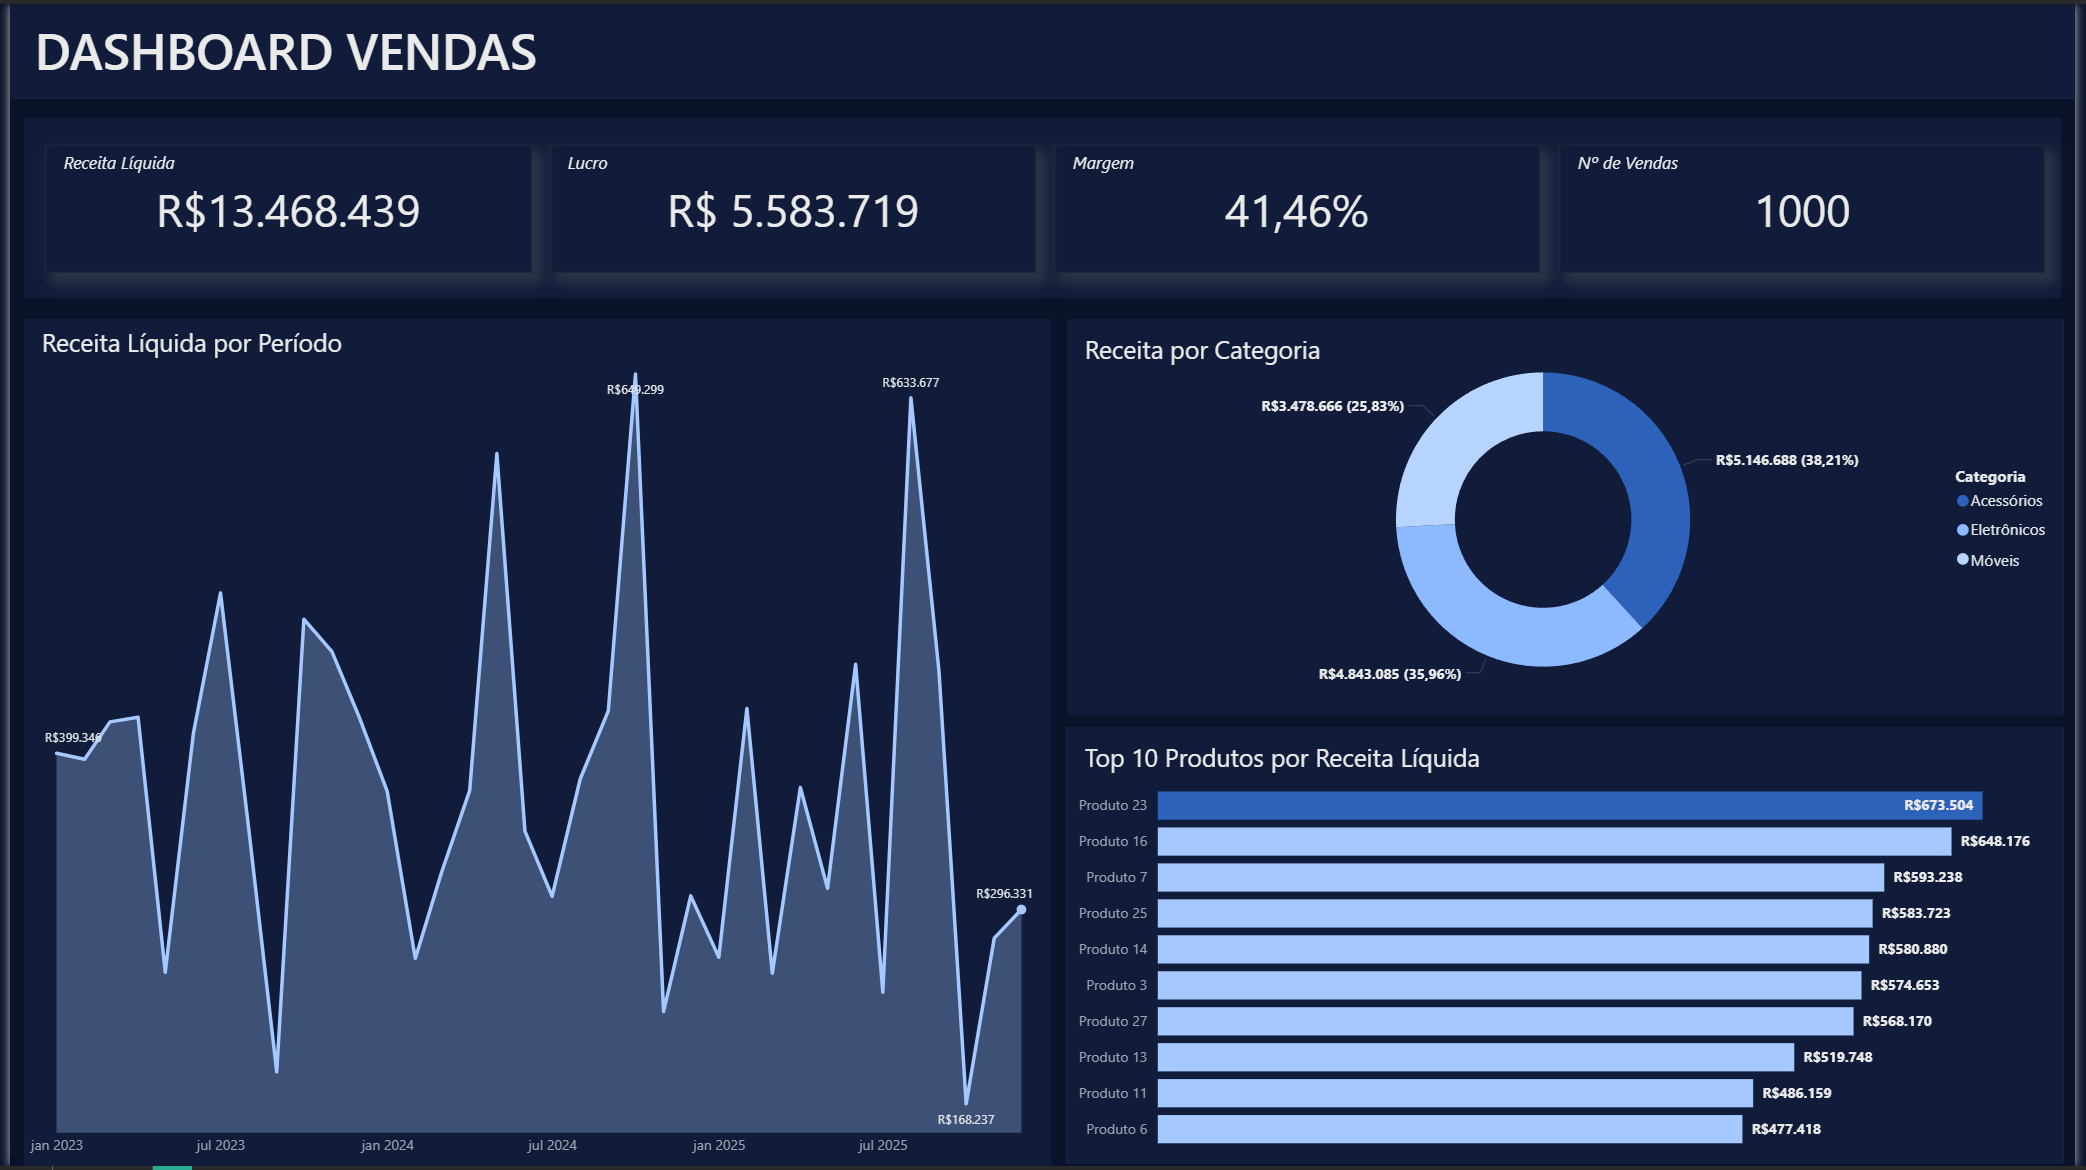

The page's visual inventory and layout, read from the dashboard file:
{"tool":"powerbi","page":{"name":"DashBoard","canvas":[1777,1000],"ordinal":0},"visuals":[{"type":"shape","box":[0,0,1775.2,81.4],"z":0,"group":"g5"},{"type":"shape","box":[11.9,97.9,1753.2,155.5],"z":0,"group":"g4"},{"type":"textbox","box":[16.5,5.9,1759.6,70],"z":1000,"group":"g5"},{"type":"card","fields":{"Values":["Medidas.Receita Liquida"]},"box":[30.1,120.8,418.6,110.3],"z":1000,"group":"g4"},{"type":"shape","box":[11.9,270.7,884.4,728.9],"z":1000,"group":"g3"},{"type":"shape","box":[910,270.7,857.4,340.8],"z":1000,"group":"g2"},{"type":"group","id":"g1","title":"Receita Por Categoria","box":[909,621.9,858.3,376.4],"z":1000},{"type":"shape","box":[910,621.9,857.4,376.4],"z":1000,"group":"g1"},{"type":"textbox","box":[1343.7,120.9,407.2,29.6],"z":1500,"group":"g4"},{"type":"group","id":"g2","title":"Receita Por Categoria","box":[910,270.7,857.4,340.8],"z":1500},{"type":"card","fields":{"Values":["Medidas.Lucro"]},"box":[464.4,120.8,418.4,110.3],"z":2000,"group":"g4"},{"type":"group","id":"g3","title":"Receita Liquida Por Periodo","box":[11.9,270.7,884.4,728.9],"z":2000},{"type":"donutChart","fields":{"Category":["dim_produto.categoria"],"Y":["Medidas.Receita Liquida"]},"box":[960.3,274.9,806.6,336.6],"z":2001,"group":"g2"},{"type":"areaChart","fields":{"Y":["Medidas.Receita Liquida"],"Category":["dim_tempo.mesAno"]},"box":[11.9,299.6,884.4,700],"z":2001,"group":"g3"},{"type":"clusteredBarChart","fields":{"Category":["dim_produto.produto"],"Y":["Medidas.Receita Liquida"]},"box":[909,652.1,858,346],"z":2001,"group":"g1"},{"type":"group","id":"g4","title":"Visao Geral","box":[11.9,97.9,1753.2,155.5],"z":2250},{"type":"group","id":"g5","title":"Cabecalho","box":[0,0,1776.1,81.4],"z":2500},{"type":"textbox","box":[909.9,120.9,407.2,29.6],"z":2500,"group":"g4"},{"type":"card","fields":{"Values":["Medidas.Total de Vendas"]},"box":[1332.9,120.8,418.4,110.3],"z":3000,"group":"g4"},{"type":"textbox","box":[475.1,120.9,407.2,29.6],"z":3500,"group":"g4"},{"type":"card","fields":{"Values":["Medidas.Margem (%)"]},"box":[898.6,120.8,418.4,110.3],"z":4000,"group":"g4"},{"type":"textbox","box":[41.3,120.9,407.2,29.6],"z":4500,"group":"g4"},{"type":"textbox","box":[22.2,270.7,871.5,73.4],"z":4500,"group":"g3"},{"type":"textbox","box":[920.1,276.5,845.1,43.9],"z":4500,"group":"g2"},{"type":"textbox","box":[920,628.3,845.1,48.5],"z":4500,"group":"g1"}]}

Visuals, with their boxes in screenshot pixels (x1, y1, x2, y2), scaled from the page's 1777x1000 canvas onto the 2086x1170 screenshot:
shape: (0,0,2084,95)
shape: (14,115,2072,296)
textbox: (19,7,2085,89)
card - Medidas.Receita Liquida: (35,141,527,270)
shape: (14,317,1052,1169)
shape: (1068,317,2075,715)
"Receita Por Categoria" group: (1067,728,2075,1168)
shape: (1068,728,2075,1168)
textbox: (1577,141,2055,176)
"Receita Por Categoria" group: (1068,317,2075,715)
card - Medidas.Lucro: (545,141,1036,270)
"Receita Liquida Por Periodo" group: (14,317,1052,1169)
donutChart - dim_produto.categoria x Medidas.Receita Liquida: (1127,322,2074,715)
areaChart - Medidas.Receita Liquida x dim_tempo.mesAno: (14,351,1052,1169)
clusteredBarChart - dim_produto.produto x Medidas.Receita Liquida: (1067,763,2074,1168)
"Visao Geral" group: (14,115,2072,296)
"Cabecalho" group: (0,0,2085,95)
textbox: (1068,141,1546,176)
card - Medidas.Total de Vendas: (1565,141,2056,270)
textbox: (558,141,1036,176)
card - Medidas.Margem (%): (1055,141,1546,270)
textbox: (48,141,526,176)
textbox: (26,317,1049,403)
textbox: (1080,324,2072,375)
textbox: (1080,735,2072,792)
